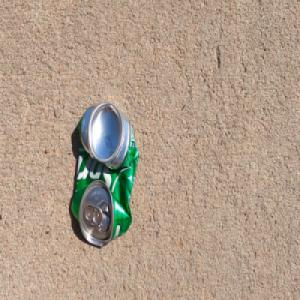SodaCan: (70, 100, 140, 249)
